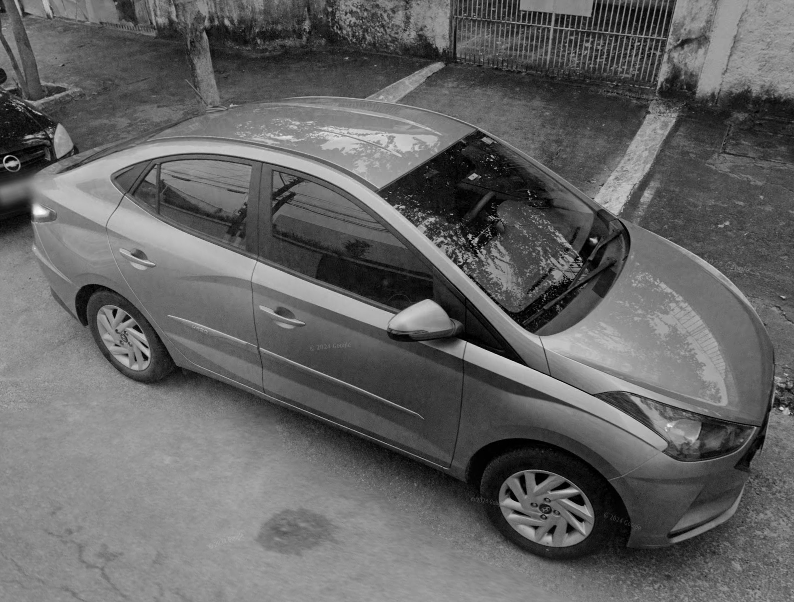car: (28, 94, 780, 558)
